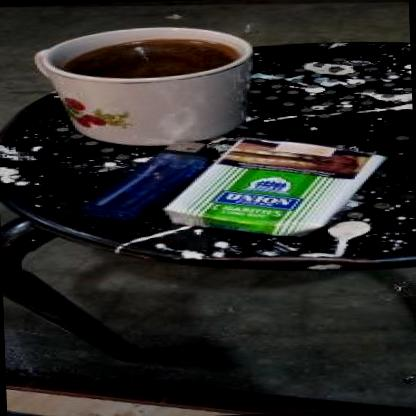objects: (162, 133, 390, 241)
